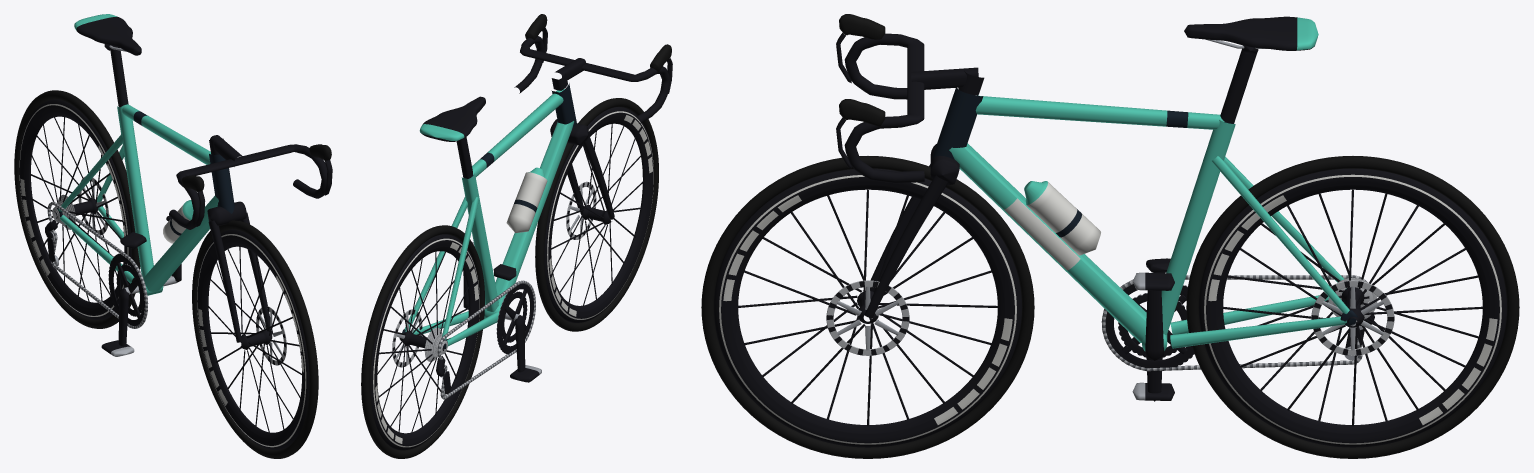
Rendered from bike.glb.
3 renders of one model, left to right at view 1: azimuth 30°, elevation 25°; view 2: azimuth 150°, elevation 25°; view 3: azimuth 270°, elevation 25°, orthographic. The views are drawn at different scales.
Visible parts, largest first — view 1: frame, wheel_front, wheel_rear, crankset, pedal_r; view 2: frame, wheel_rear, wheel_front, crankset, pedal_r; view 3: frame, wheel_rear, wheel_front, crankset.
Boxes of the visible parts, x1=… form: frame: x1=45, y1=14, x2=332, y2=342; wheel_front: x1=192, y1=220, x2=318, y2=458; wheel_rear: x1=14, y1=90, x2=140, y2=328; crankset: x1=108, y1=253, x2=181, y2=346; pedal_r: x1=101, y1=340, x2=134, y2=356; frame: x1=402, y1=14, x2=672, y2=399; wheel_rear: x1=361, y1=225, x2=484, y2=458; wheel_front: x1=535, y1=98, x2=658, y2=331; crankset: x1=463, y1=272, x2=533, y2=372; pedal_r: x1=510, y1=365, x2=541, y2=382; frame: x1=836, y1=14, x2=1374, y2=371; wheel_rear: x1=1186, y1=156, x2=1519, y2=458; wheel_front: x1=701, y1=156, x2=1034, y2=458; crankset: x1=1102, y1=282, x2=1194, y2=401.
Bounding box in the file's own units: 0.4388 × 0.9741 × 1.67.
